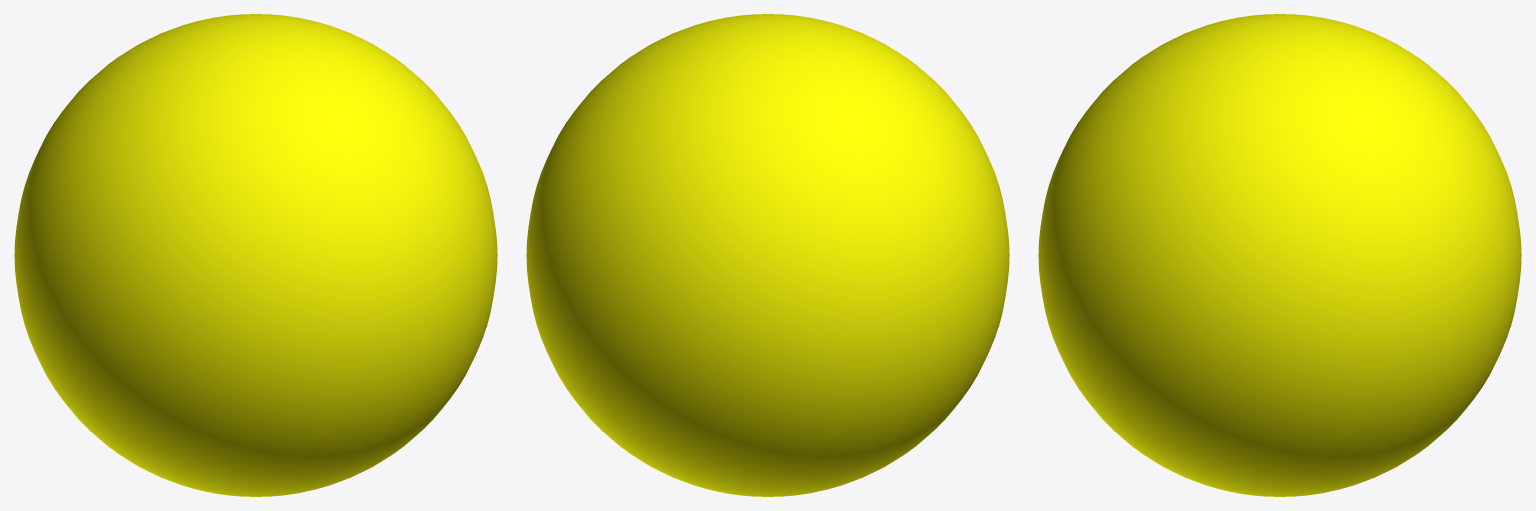
The model's file is ball_yellow.gltf.
3 views of the same model, side by side, from view 1: azimuth 30°, elevation 25°; view 2: azimuth 150°, elevation 25°; view 3: azimuth 270°, elevation 25° (orthographic).
Visible parts, largest first — view 1: Object_4; view 2: Object_4; view 3: Object_4.
Part boxes in pixels (x1=…): Object_4: x1=14, y1=14, x2=497, y2=496; Object_4: x1=526, y1=14, x2=1009, y2=496; Object_4: x1=1038, y1=14, x2=1521, y2=496.
Size of the model in its own units: 2 by 2 by 2.
